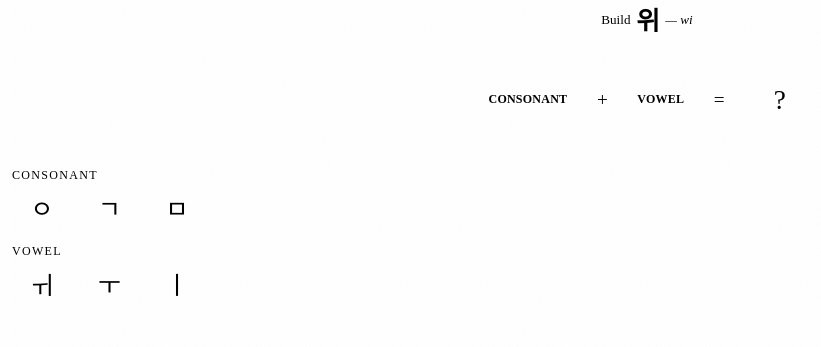
it: AssembleStep trays › leaves a silent lead ㅇ unlabeled on the plate
Click the radio button labelled "ㅇ" at (42, 210), box [12,187,72,232]
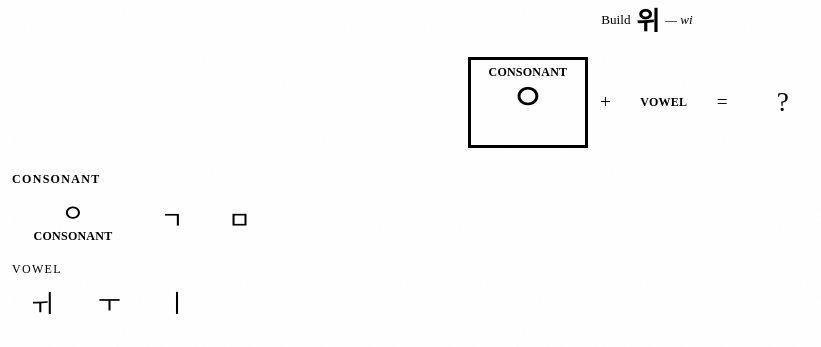
Click the radio button labelled "ㅟ" at (42, 304), box [12,281,72,327]
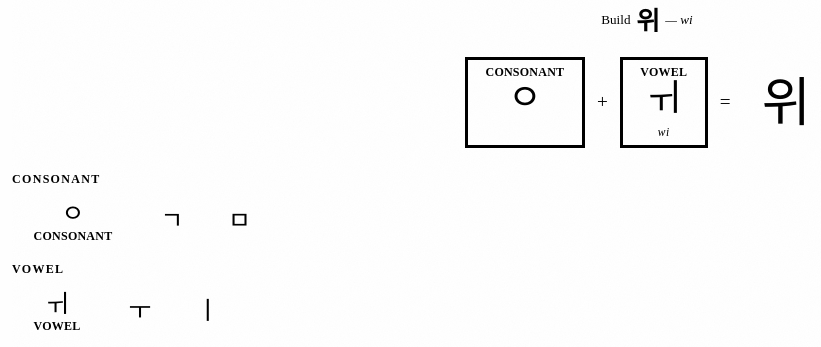
Expected: the 1st text with class "slot-value" reads "ㅇ", [508,77,542,118]
Expected: the text with class "slot-reading" reads "wi", [658,126,670,138]
